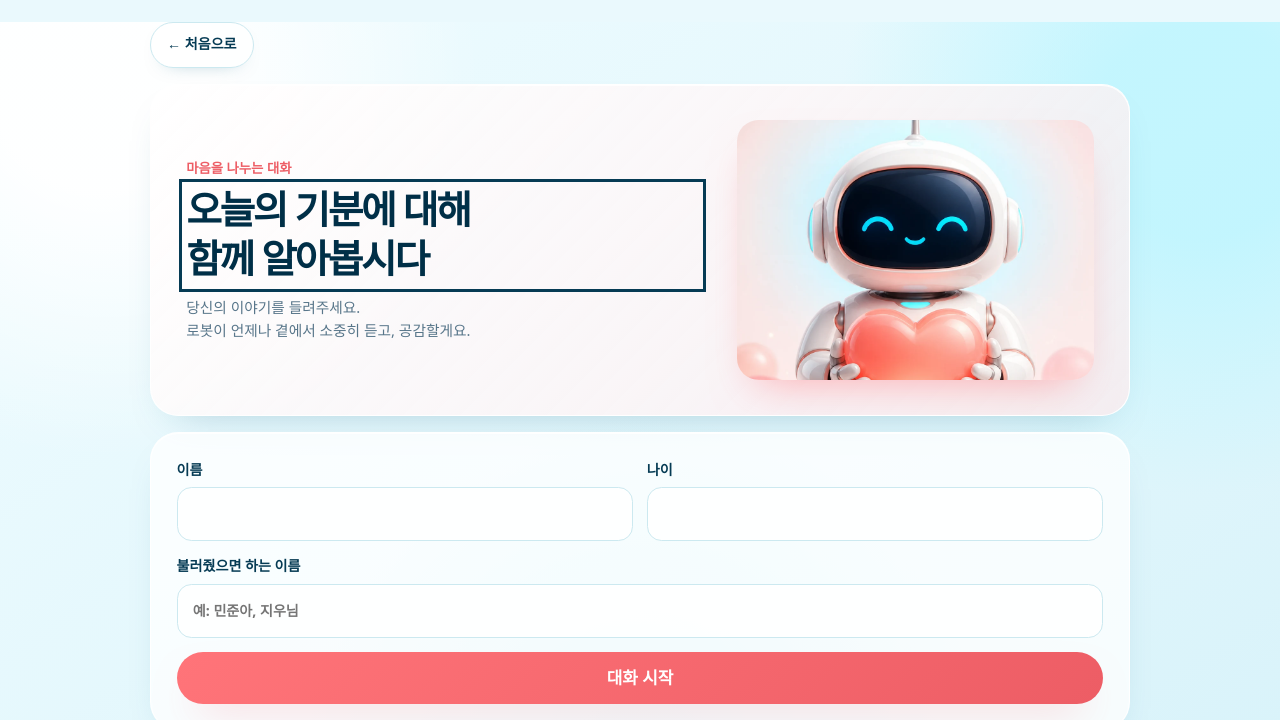
it: EmotionFlow › collects profile data and reveals the saved emotion result
This screenshot has width=1280, height=720.
In the field labelled "이름": (405,514) [177,488,633,542], type "민준"
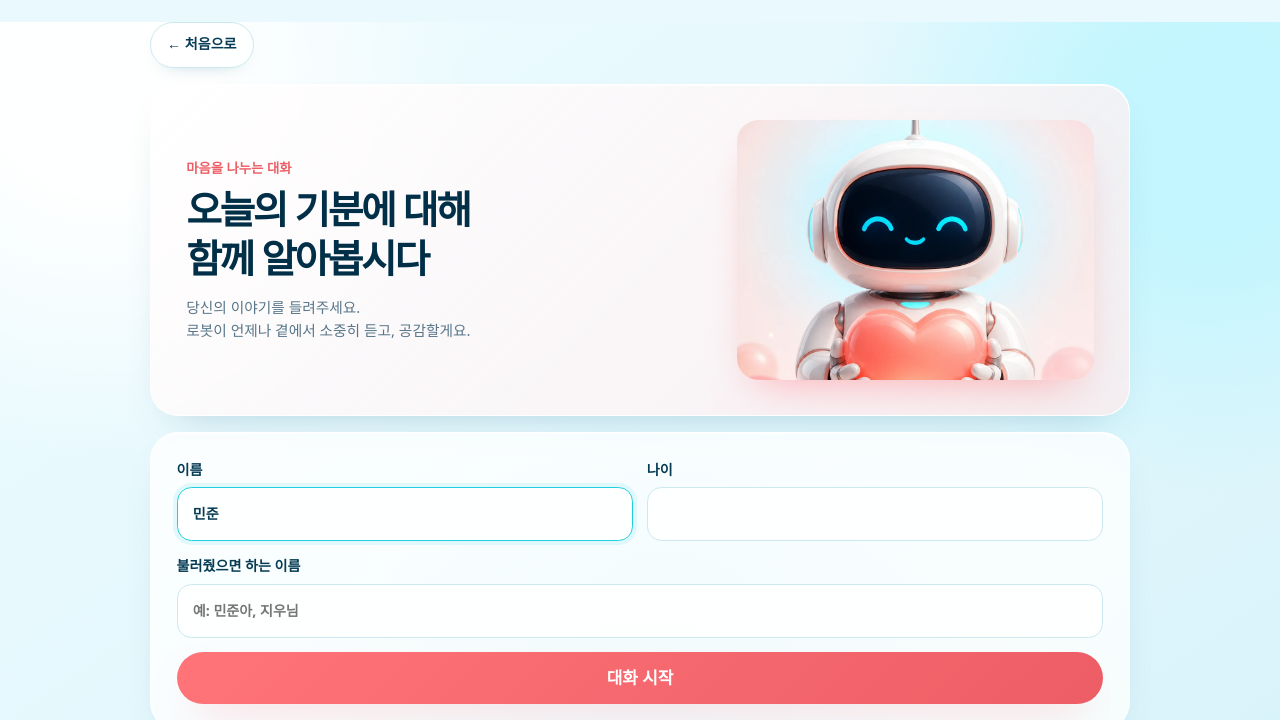
In the number field labelled "나이": (875,514) [647,488,1103,542], type "10"
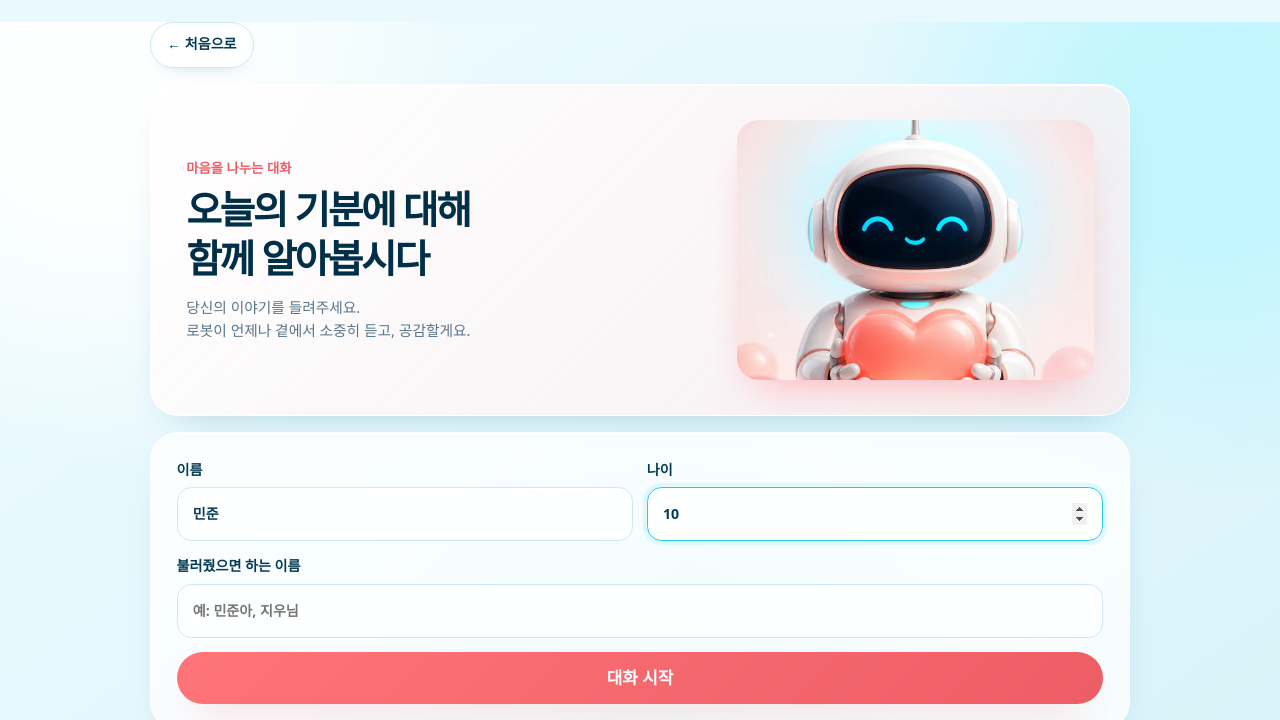
In the field labelled "불러줬으면 하는 이름": (640,611) [177,584,1103,638], type "민준아"
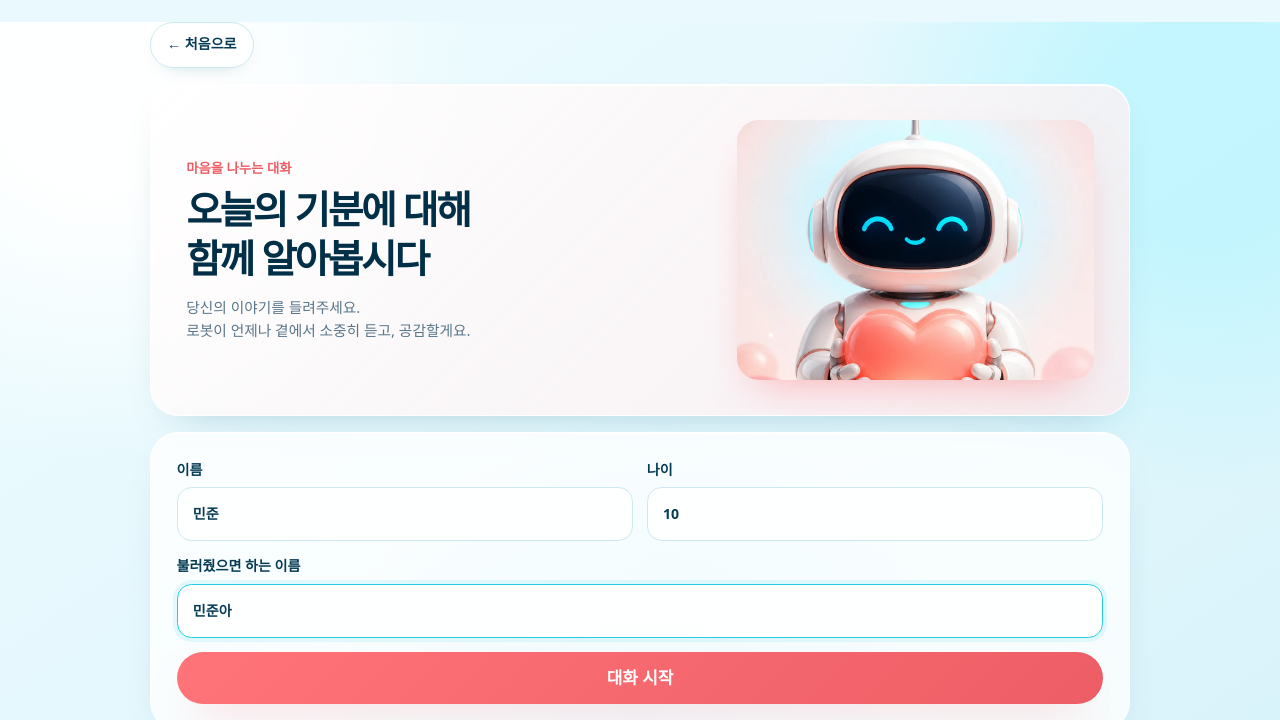
Click the button "대화 시작": (640,678) [177,652,1103,704]
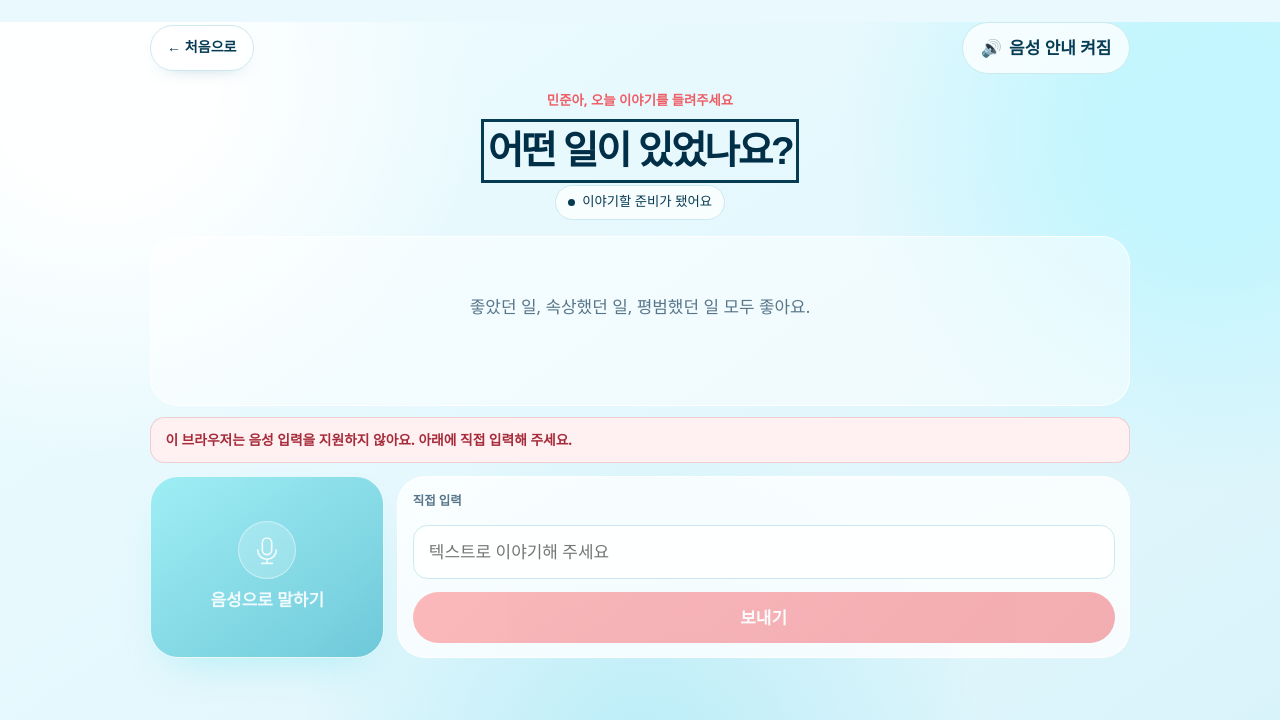
In the field labelled "직접 입력": (764,552) [413,525,1115,579], type "친구와 놀아서 즐거웠어요"
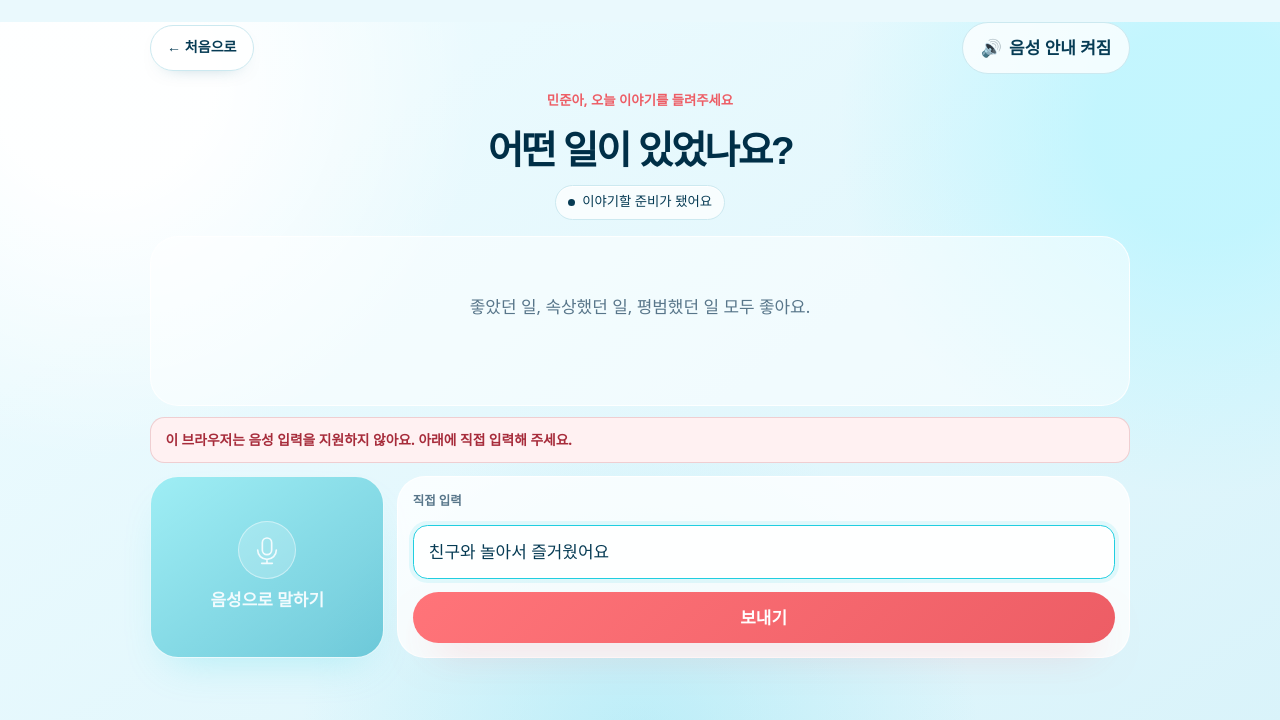
Click the button "보내기": (764,618) [413,592,1115,643]
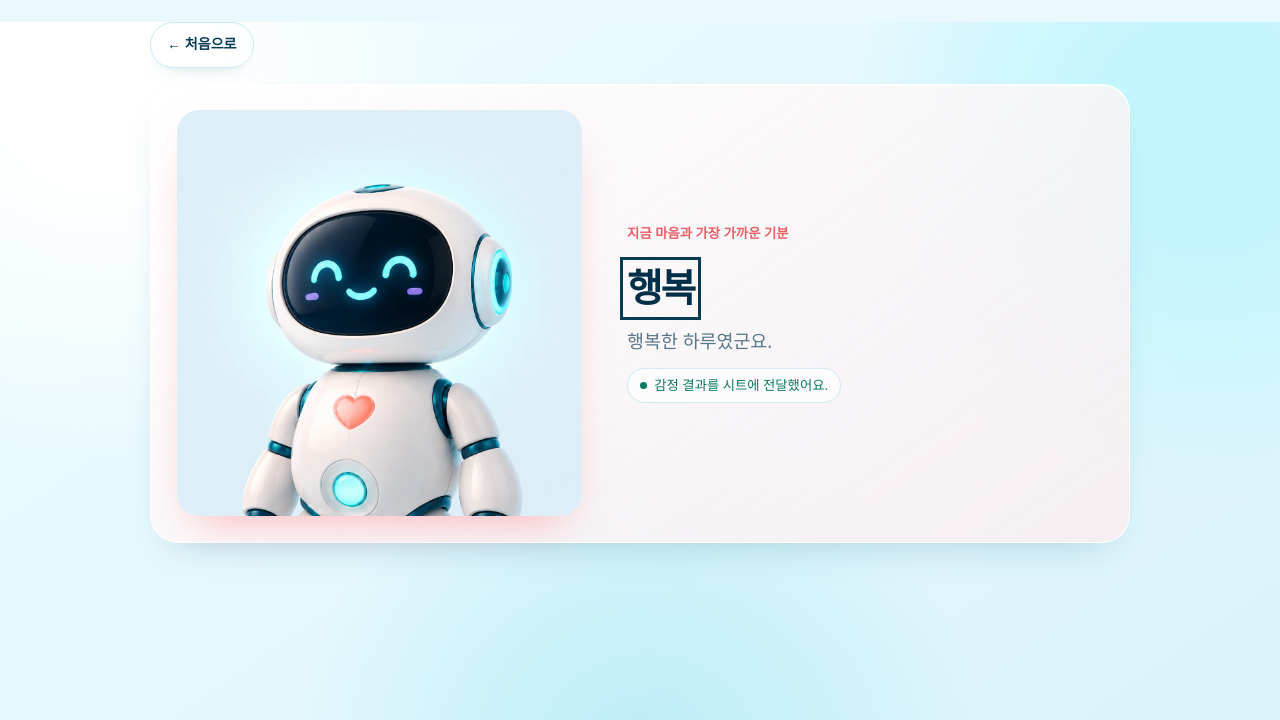
Expected: the heading "행복" is shown, [627,264,694,313]
Expected: the text "행복한 하루였군요." is shown, [627,326,772,355]
Expected: the text "감정 결과를 시트에 전달했어요." is shown, [627,368,841,403]
